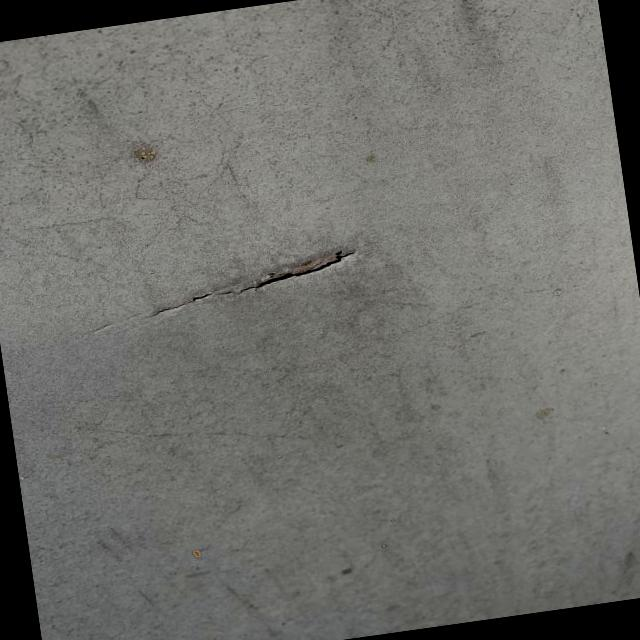crack: (152, 244, 356, 322)
